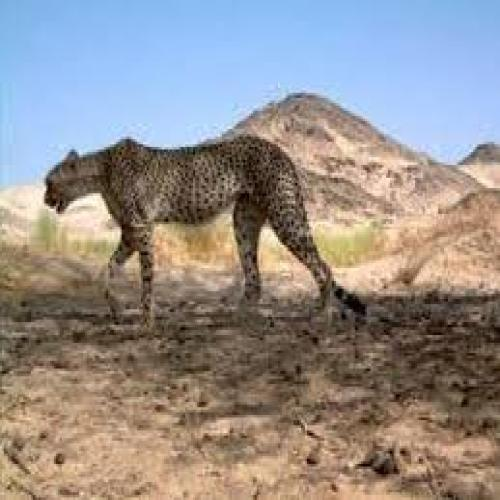cheetah-endangered: (46, 132, 364, 333)
